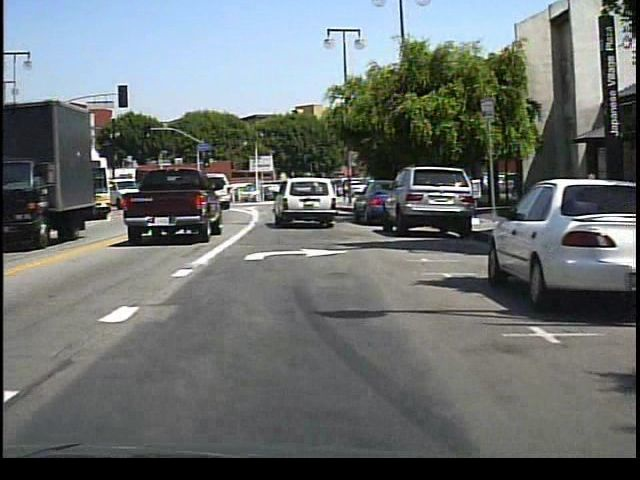person: (338, 179, 349, 206)
